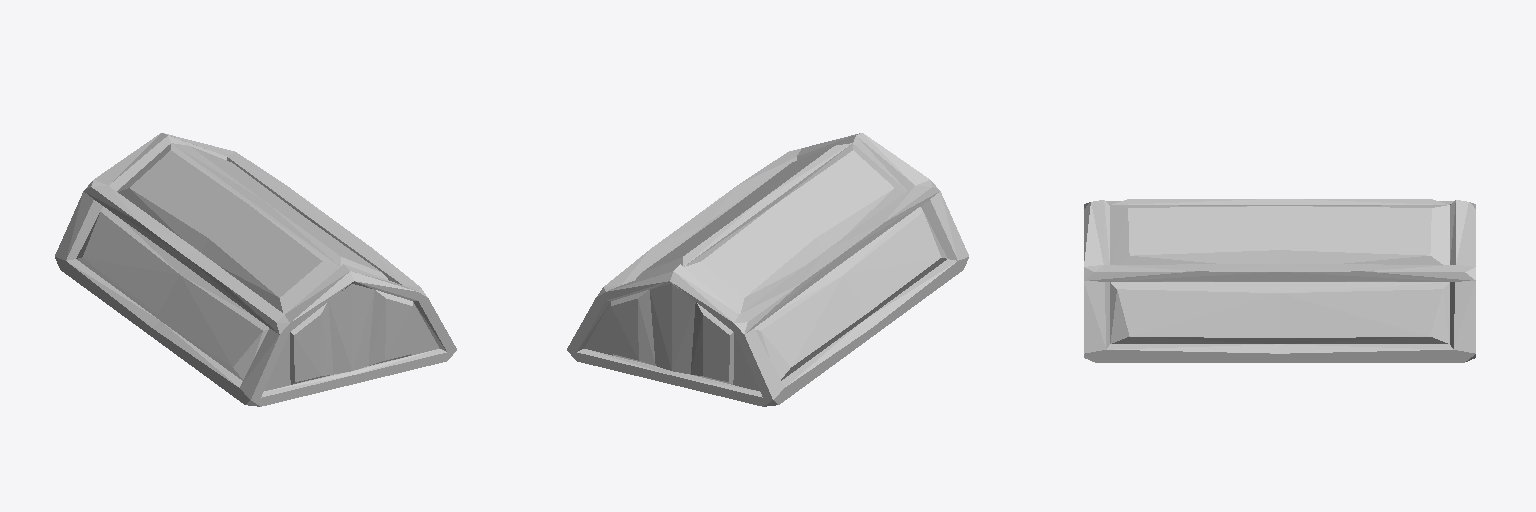
Rendered from ChestCap.obj.
3 views of the same model, side by side, from view 1: azimuth 30°, elevation 25°; view 2: azimuth 150°, elevation 25°; view 3: azimuth 270°, elevation 25° (orthographic).
Parts seen in each view (by area): view 1: Cube.003; view 2: Cube.003; view 3: Cube.003.
Boxes of the visible parts, box(x1,y1,x2,y2) form: Cube.003: box(55, 133, 456, 406); Cube.003: box(567, 133, 968, 406); Cube.003: box(1084, 199, 1475, 362).
Bounding box in the file's own units: 1.41 × 0.7365 × 2.32.